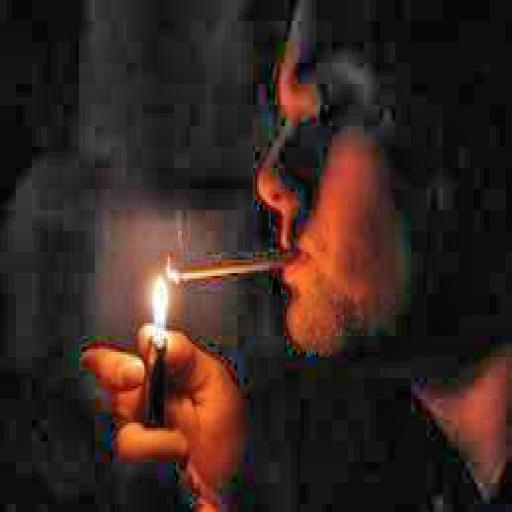fire: (140, 266, 176, 342)
